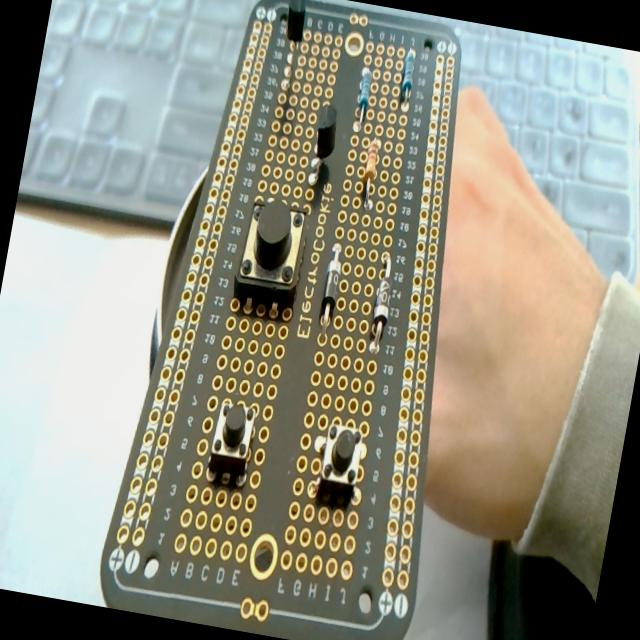diode: (365, 250, 399, 354), (316, 242, 346, 333)
resistor: (356, 138, 382, 211), (350, 64, 373, 128), (397, 48, 419, 102)
switch: (230, 194, 312, 322), (309, 418, 367, 508), (205, 398, 260, 490)
transistor: (305, 100, 342, 189), (274, 0, 313, 79)
